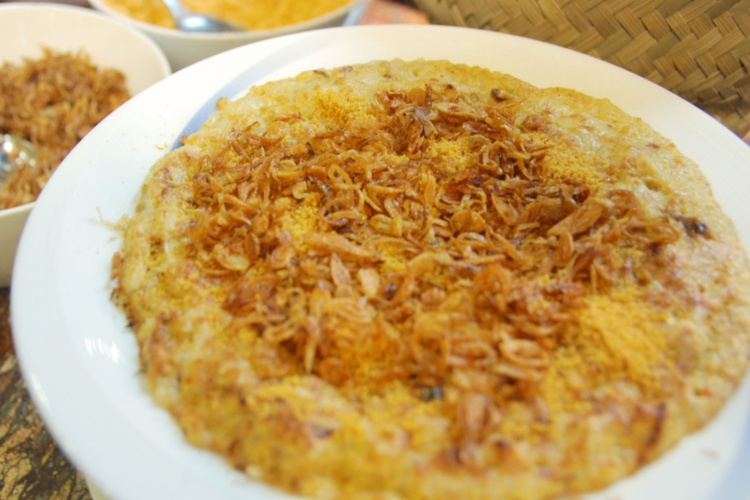kerak_telor: (114, 58, 750, 496)
